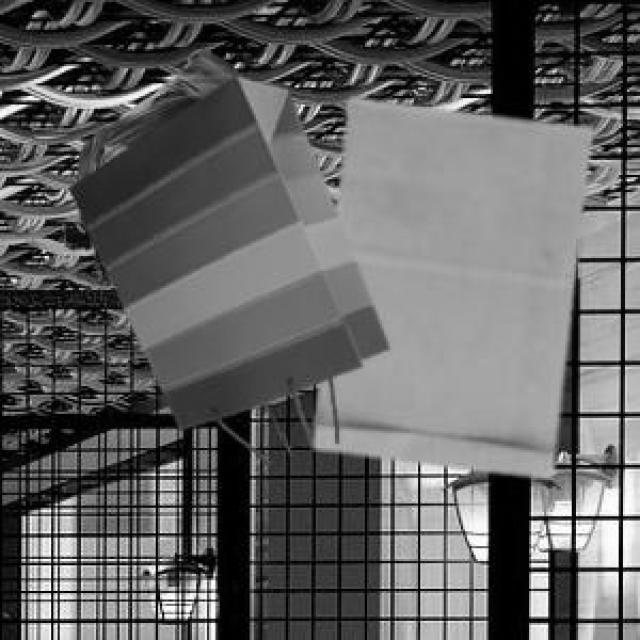miscellaneous trash: (56, 45, 241, 282)
paper: (64, 73, 384, 435), (309, 94, 589, 474)
